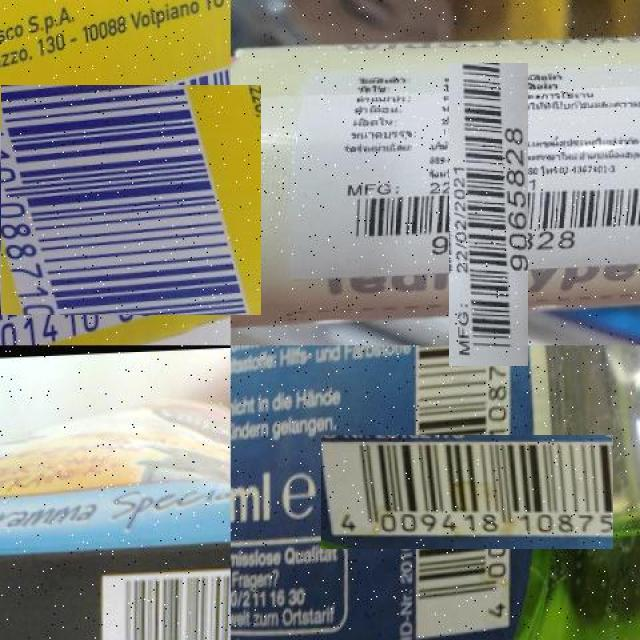Barcode: (0, 69, 246, 330), (365, 390, 568, 593), (393, 119, 584, 310), (101, 564, 231, 640)
